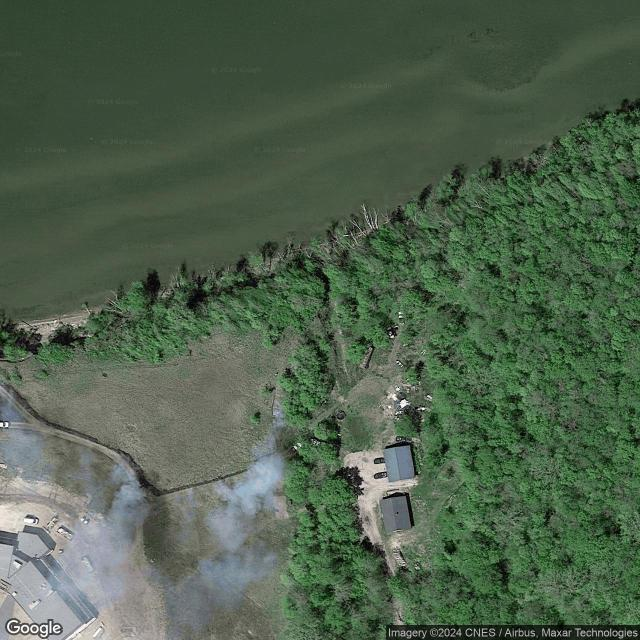Propane: (92, 626, 102, 638)
